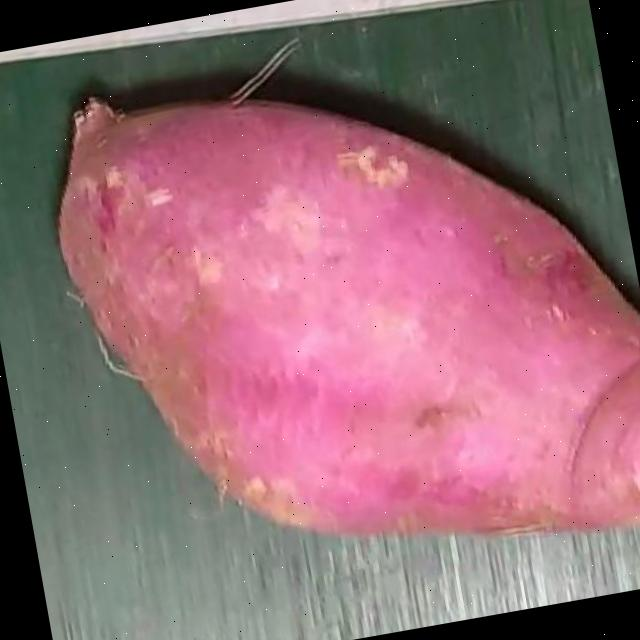Sweet Potato: (53, 96, 640, 538)
